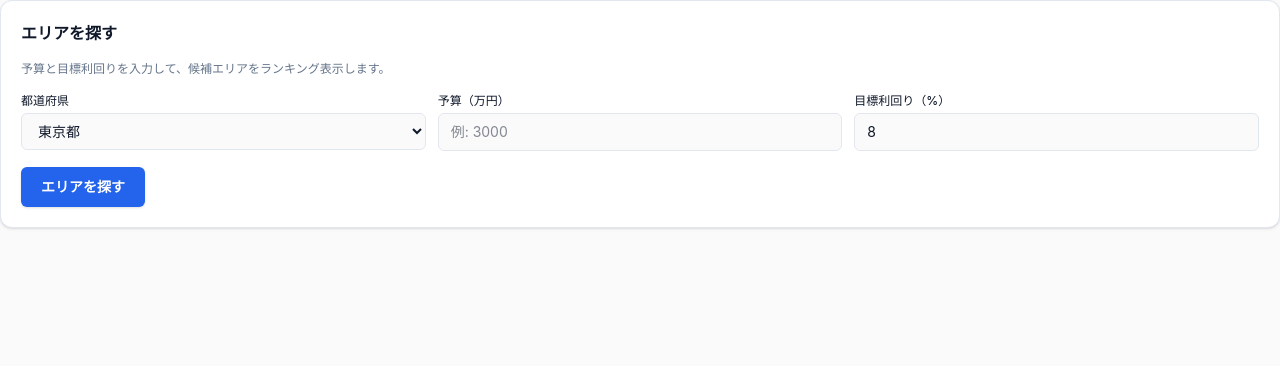
Test: AreaDiscovery › 坪単価が0の場合はダッシュ（—）が表示される
Click the button "エリアを探す" at x=83, y=187, box [21,167,145,207]
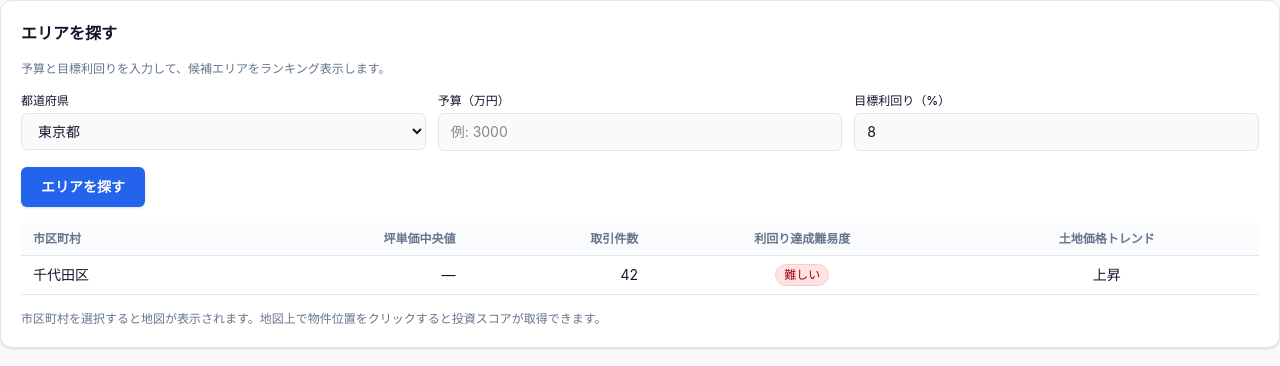
Expected: the text "—" is shown, [224,256,467,294]
